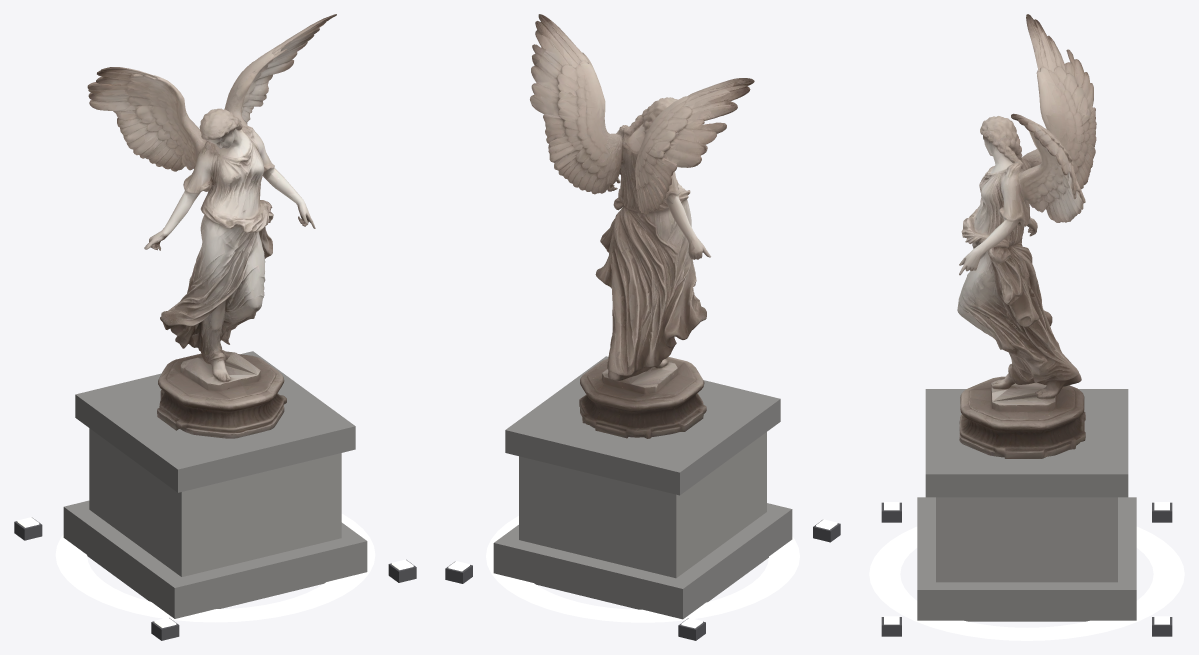
File: m-angel-winged.glb
3 views of the same model, side by side, from view 1: azimuth 30°, elevation 25°; view 2: azimuth 150°, elevation 25°; view 3: azimuth 270°, elevation 25° (orthographic).
Visible parts, largest first — view 1: Pedestal, Statue, Uplight; view 2: Pedestal, Statue, Uplight; view 3: Pedestal, Statue, Uplight.
Part boxes in pixels (box(x1,y1,x2,y2)): Pedestal: box(63, 351, 367, 618); Statue: box(87, 14, 336, 438); Uplight: box(14, 514, 416, 640); Pedestal: box(493, 356, 792, 619); Statue: box(530, 14, 754, 438); Uplight: box(445, 516, 840, 640); Pedestal: box(917, 389, 1136, 621); Statue: box(957, 14, 1096, 458); Uplight: box(869, 502, 1184, 640).
Bounding box in the file's own units: 5.58 × 10 × 5.58.
Materials: 5 (1 with a texture image).
